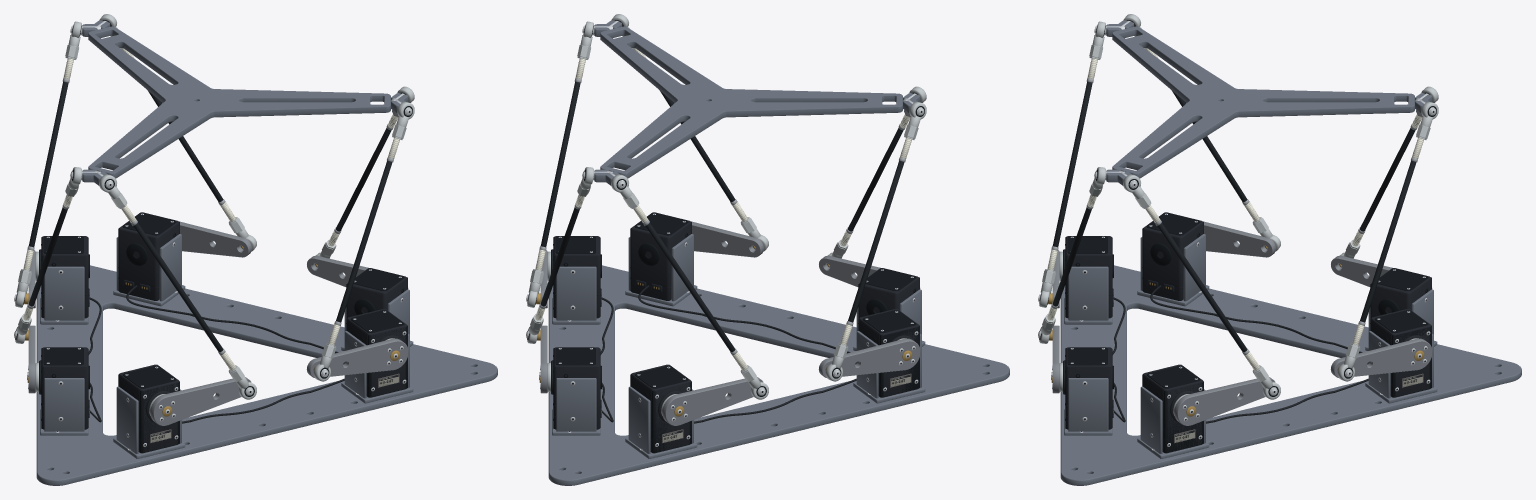
Rendered from zamanov-6rss.glb.
The picture shows the model from 3 angles, left to right: view 1: azimuth 30°, elevation 25°; view 2: azimuth 150°, elevation 25°; view 3: azimuth 270°, elevation 25°; orthographic projection.
Parts seen in each view (by area): view 1: Machined triangular base / open centre, One-piece slotted three-arm plate, Cast gearbox and case (×6), Bent mount · side (×6), Tapered machined crank (×5), Black pushrod (×6), Gearbox cover (×6), Front moulded bezel; view 2: Machined triangular base / open centre, One-piece slotted three-arm plate, Cast gearbox and case (×6), Bent mount · side (×6), Tapered machined crank (×5), Black pushrod (×6), Gearbox cover (×6), Front moulded bezel (×2); view 3: Machined triangular base / open centre, One-piece slotted three-arm plate, Cast gearbox and case (×6), Bent mount · side (×6), Tapered machined crank (×5), Black pushrod (×6), Gearbox cover (×6), Front moulded bezel.
Boxes of the visible parts, x1=… form: Machined triangular base / open centre: x1=36, y1=265, x2=497, y2=485; One-piece slotted three-arm plate: x1=88, y1=26, x2=390, y2=178; Cast gearbox and case (×6): x1=41, y1=212, x2=407, y2=453; Bent mount · side (×6): x1=44, y1=234, x2=409, y2=453; Tapered machined crank (×5): x1=28, y1=221, x2=408, y2=425; Black pushrod (×6): x1=28, y1=81, x2=392, y2=352; Gearbox cover (×6): x1=43, y1=212, x2=404, y2=388; Front moulded bezel: x1=140, y1=381, x2=179, y2=453; Machined triangular base / open centre: x1=548, y1=265, x2=1009, y2=485; One-piece slotted three-arm plate: x1=600, y1=26, x2=902, y2=178; Cast gearbox and case (×6): x1=553, y1=212, x2=919, y2=453; Bent mount · side (×6): x1=556, y1=234, x2=921, y2=453; Tapered machined crank (×5): x1=540, y1=221, x2=920, y2=425; Black pushrod (×6): x1=540, y1=81, x2=904, y2=352; Gearbox cover (×6): x1=555, y1=212, x2=916, y2=388; Front moulded bezel (×2): x1=652, y1=325, x2=919, y2=453; Machined triangular base / open centre: x1=1060, y1=265, x2=1521, y2=485; One-piece slotted three-arm plate: x1=1112, y1=26, x2=1414, y2=178; Cast gearbox and case (×6): x1=1065, y1=212, x2=1431, y2=453; Bent mount · side (×6): x1=1068, y1=234, x2=1433, y2=453; Tapered machined crank (×5): x1=1052, y1=221, x2=1432, y2=425; Black pushrod (×6): x1=1052, y1=81, x2=1416, y2=352; Gearbox cover (×6): x1=1067, y1=212, x2=1428, y2=388; Front moulded bezel: x1=1164, y1=381, x2=1203, y2=453.
Size of the model in its own units: 0.456 by 0.2718 by 0.419.
Materials: 13 (1 with a texture image).
